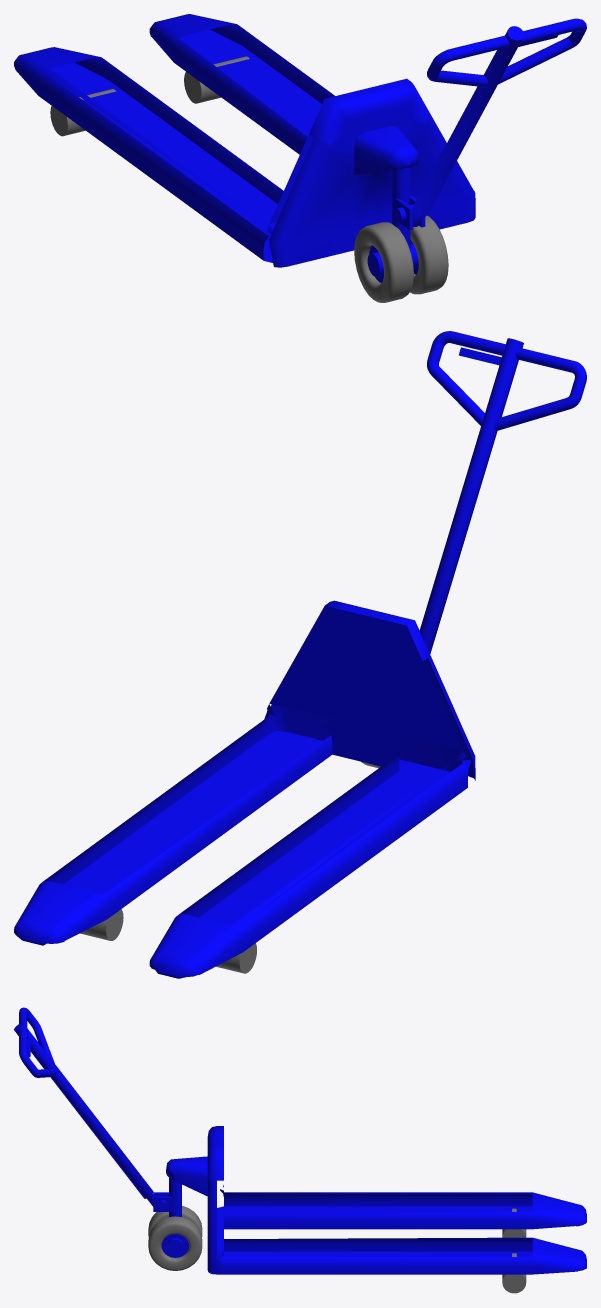
The model's file is PalletJack.fbx.
The picture shows the model from 3 angles, top to bottom: view 1: azimuth 30°, elevation 25°; view 2: azimuth 150°, elevation 25°; view 3: azimuth 270°, elevation 25°; orthographic projection. The views are drawn at different scales.
Parts seen in each view (by area): view 1: HandfTruck; view 2: HandfTruck; view 3: HandfTruck.
Boxes of the visible parts, bbox=[...] form: HandfTruck: bbox=[14, 14, 586, 302]; HandfTruck: bbox=[14, 331, 586, 978]; HandfTruck: bbox=[14, 1007, 586, 1293].
Size of the model in its own units: 50.24 by 82 by 178.
